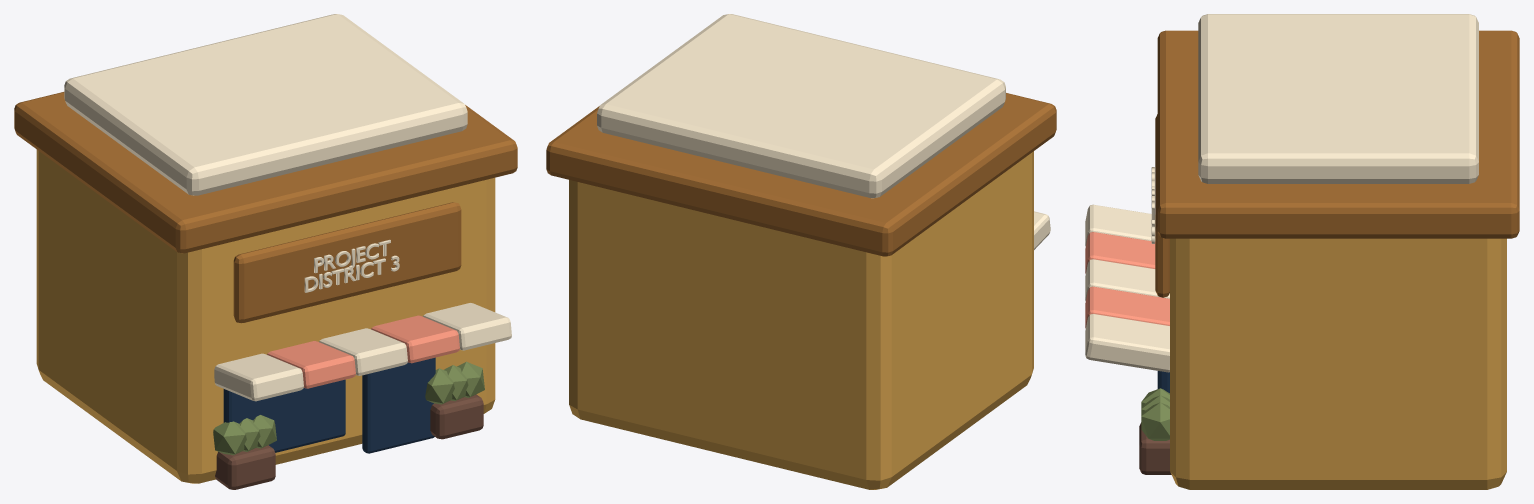
The model's file is project-district.glb.
3 views of the same model, side by side, from view 1: azimuth 30°, elevation 25°; view 2: azimuth 150°, elevation 25°; view 3: azimuth 270°, elevation 25° (orthographic). The views are drawn at different scales.
Parts seen in each view (by area): view 1: ProjectBody, ProjectRoof, ProjectCornice, ProjectSign, ProjectDoor, ProjectWindow, Awning_0, Awning_4, Awning_1, Awning_2, Awning_3, ProjectPlanterLeft_Pot (+6 smaller); view 2: ProjectBody, ProjectRoof, ProjectCornice; view 3: ProjectBody, ProjectRoof, ProjectCornice, Awning_4, Awning_3, Awning_2, Awning_1, Awning_0, ProjectSign, ProjectPlanterRight_Pot, ProjectPlanterRight_Leaf_2.
Boxes of the visible parts, x1,y1,x2,y2 form: ProjectBody: (36, 149, 495, 483); ProjectRoof: (64, 14, 467, 195); ProjectCornice: (14, 92, 517, 253); ProjectSign: (233, 202, 461, 323); ProjectDoor: (362, 357, 435, 453); ProjectWindow: (223, 379, 345, 452); Awning_0: (214, 353, 303, 401); Awning_4: (423, 303, 511, 350); Awning_1: (267, 341, 355, 388); Awning_2: (319, 328, 407, 375); Awning_3: (371, 315, 459, 363); ProjectPlanterLeft_Pot: (215, 445, 275, 489); ProjectBody: (569, 151, 1033, 489); ProjectRoof: (597, 14, 1005, 198); ProjectCornice: (546, 93, 1056, 256); ProjectBody: (1170, 238, 1506, 489); ProjectRoof: (1198, 14, 1478, 183); ProjectCornice: (1157, 30, 1519, 238); Awning_4: (1085, 314, 1169, 372); Awning_3: (1085, 286, 1169, 328); Awning_2: (1085, 259, 1169, 300); Awning_1: (1085, 232, 1155, 273); Awning_0: (1085, 204, 1155, 246); ProjectSign: (1155, 114, 1169, 297); ProjectPlanterRight_Pot: (1139, 422, 1171, 474); ProjectPlanterRight_Leaf_2: (1141, 402, 1169, 440).
Size of the model in its own units: 3.02 by 2.6 by 3.09.
